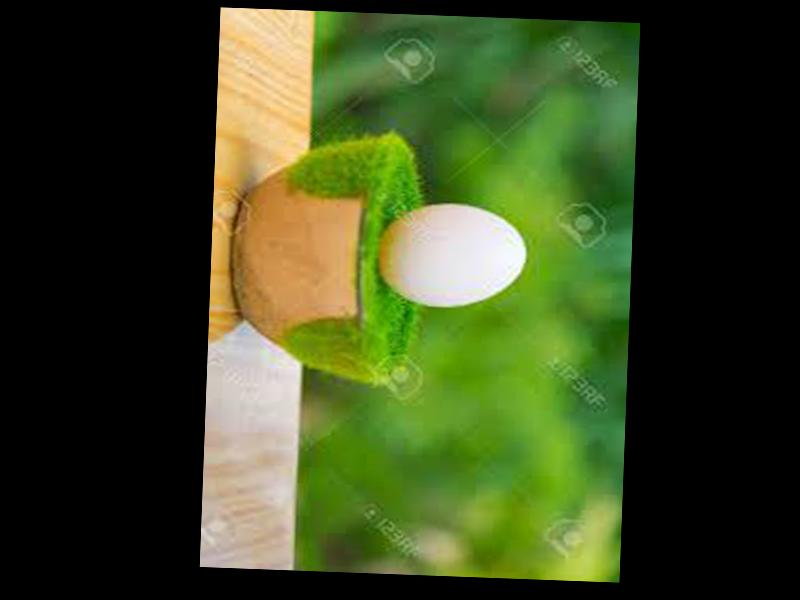Eggs: (376, 203, 525, 312)
